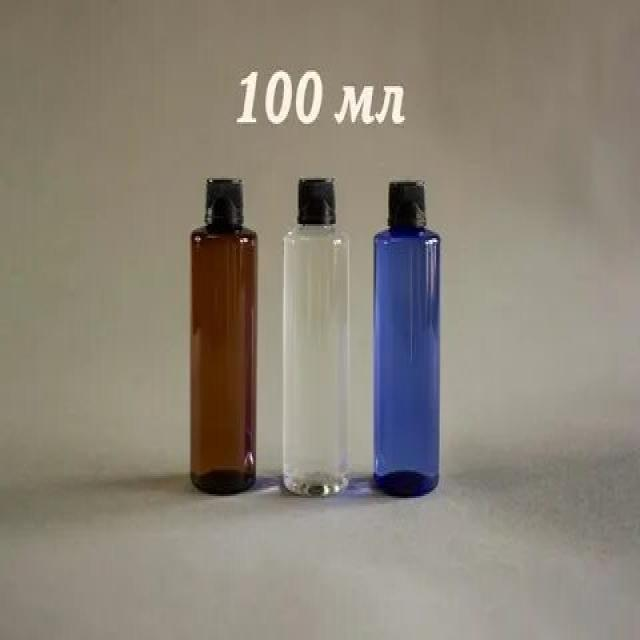brown: (191, 227, 258, 495)
